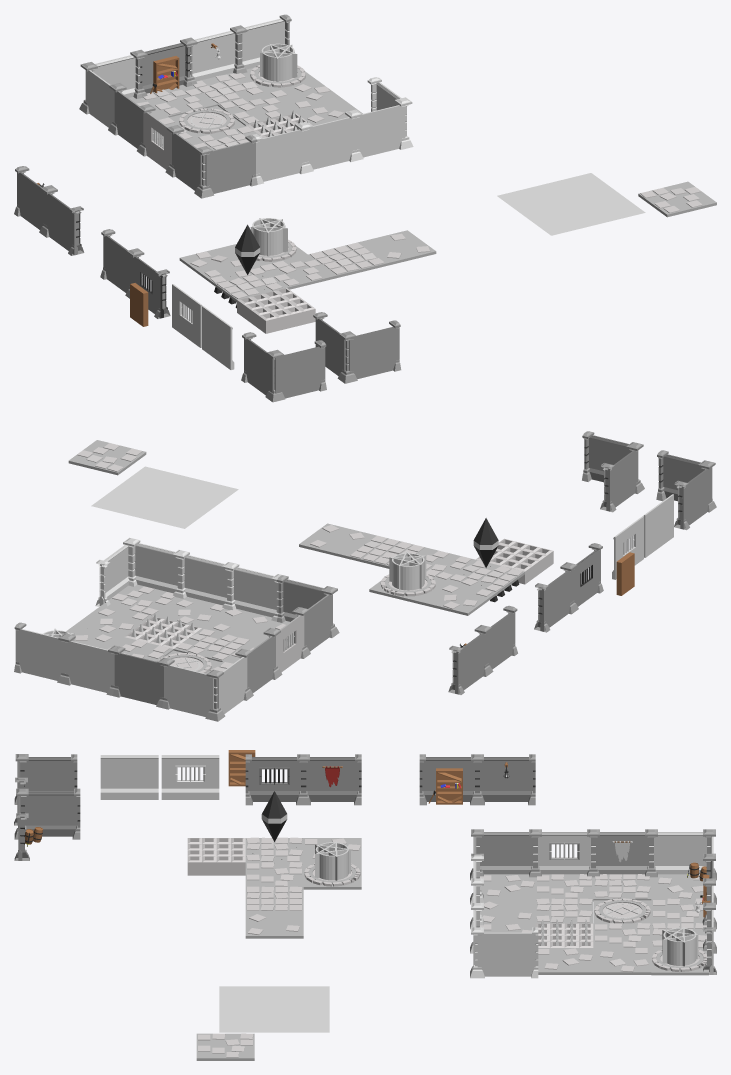
Rendered from tiles_modular_dungeon.fbx.
3 renders of one model, top to bottom at view 1: azimuth 30°, elevation 25°; view 2: azimuth 150°, elevation 25°; view 3: azimuth 270°, elevation 25°, orthographic.
Visible parts, largest first — view 1: Plane, Plane.007, Corner_1.002, Corner_1.001, Plane.003, Floor_Spikes, Plane.012, Wall_4.001, Plane.014, Plane.013, Wall_4, Plane.015 (+28 smaller); view 2: Plane, Plane.003, Corner_1.001, Corner_1.002, Plane.007, Plane.013, Plane.015, Wall_4.001, Plane.012, Plane.014, Plane.009, Cylinder.003 (+29 smaller); view 3: Plane, Plane.003, Corner_1.001, Wall_4, Cylinder.003, Wall_2, Plane.007, Plane.008, Wall_1, Plane.001, Plane.004, Cube.007 (+30 smaller).
Part boxes in pixels (bbox=[...]): Plane: bbox=[497, 173, 645, 235]; Plane.007: bbox=[169, 126, 257, 198]; Corner_1.002: bbox=[241, 332, 326, 402]; Corner_1.001: bbox=[313, 312, 401, 383]; Plane.003: bbox=[345, 77, 413, 161]; Floor_Spikes: bbox=[237, 288, 315, 333]; Plane.012: bbox=[251, 123, 307, 184]; Wall_4.001: bbox=[137, 39, 191, 97]; Plane.014: bbox=[301, 112, 356, 172]; Plane.013: bbox=[186, 26, 241, 85]; Wall_4: bbox=[43, 187, 84, 255]; Plane.015: bbox=[236, 14, 291, 73]; Plane: bbox=[91, 466, 238, 528]; Plane.003: bbox=[95, 537, 189, 606]; Corner_1.001: bbox=[582, 431, 644, 512]; Corner_1.002: bbox=[656, 450, 716, 530]; Plane.007: bbox=[277, 575, 339, 655]; Plane.013: bbox=[63, 634, 119, 695]; Plane.015: bbox=[14, 622, 69, 683]; Wall_4.001: bbox=[113, 646, 168, 707]; Plane.012: bbox=[227, 563, 282, 621]; Plane.014: bbox=[178, 551, 233, 609]; Plane.009: bbox=[164, 665, 214, 716]; Cylinder.003: bbox=[448, 626, 489, 694]; Plane: bbox=[219, 986, 329, 1032]; Plane.003: bbox=[470, 902, 538, 978]; Corner_1.001: bbox=[14, 788, 80, 860]; Wall_4: bbox=[419, 754, 477, 805]; Cylinder.003: bbox=[477, 754, 535, 805]; Wall_2: bbox=[303, 754, 361, 805]; Plane.007: bbox=[470, 829, 535, 900]; Plane.008: bbox=[100, 755, 158, 799]; Wall_1: bbox=[245, 754, 303, 805]; Plane.001: bbox=[161, 755, 219, 799]; Plane.004: bbox=[535, 829, 593, 877]; Cube.007: bbox=[593, 829, 651, 877].
Size of the model in its own units: 22.4 by 2.76 by 24.25.
